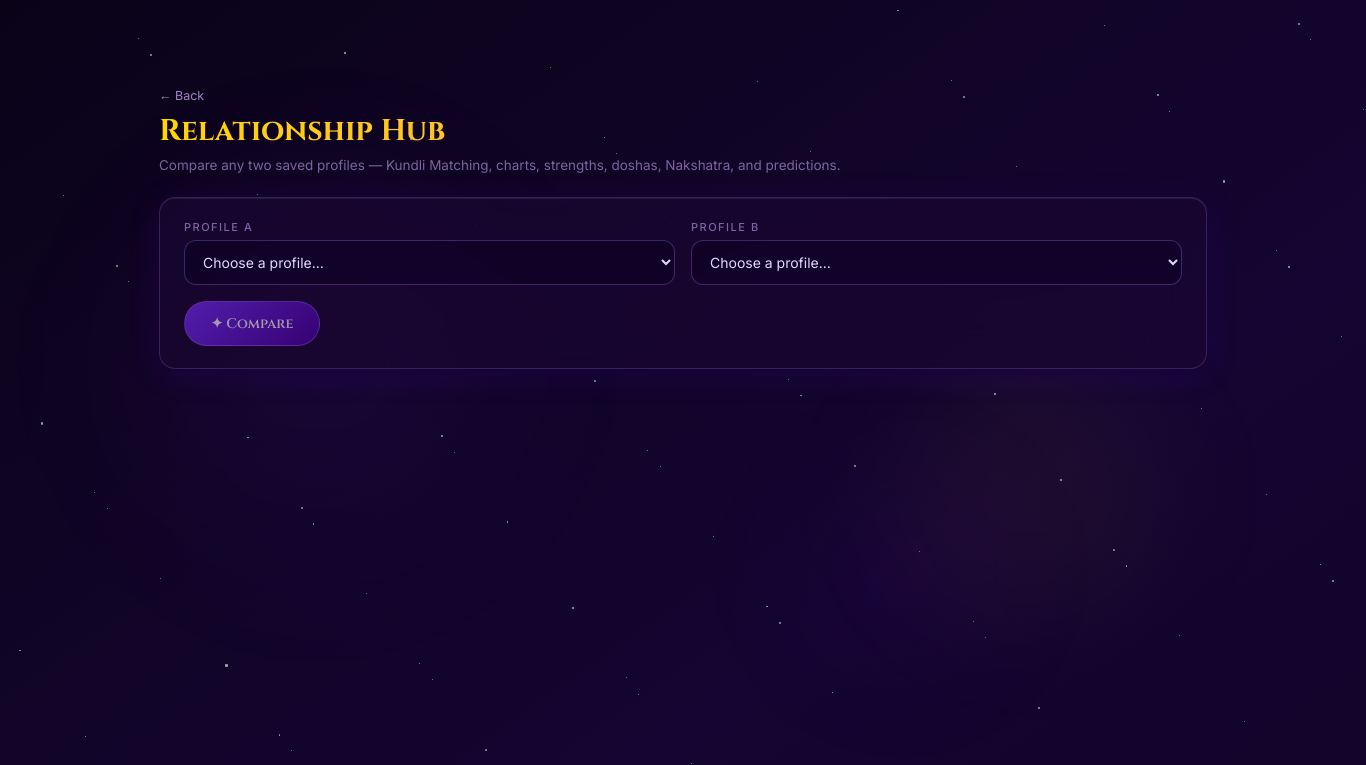
RelationshipHubPage › compares two chosen profiles and shows the Kundli Matching tab
The image size is (1366, 765).
Select "Ramesh Sharma (Father)" in the dropdown named "Profile A" at (430, 262), box [184,240,675,285]
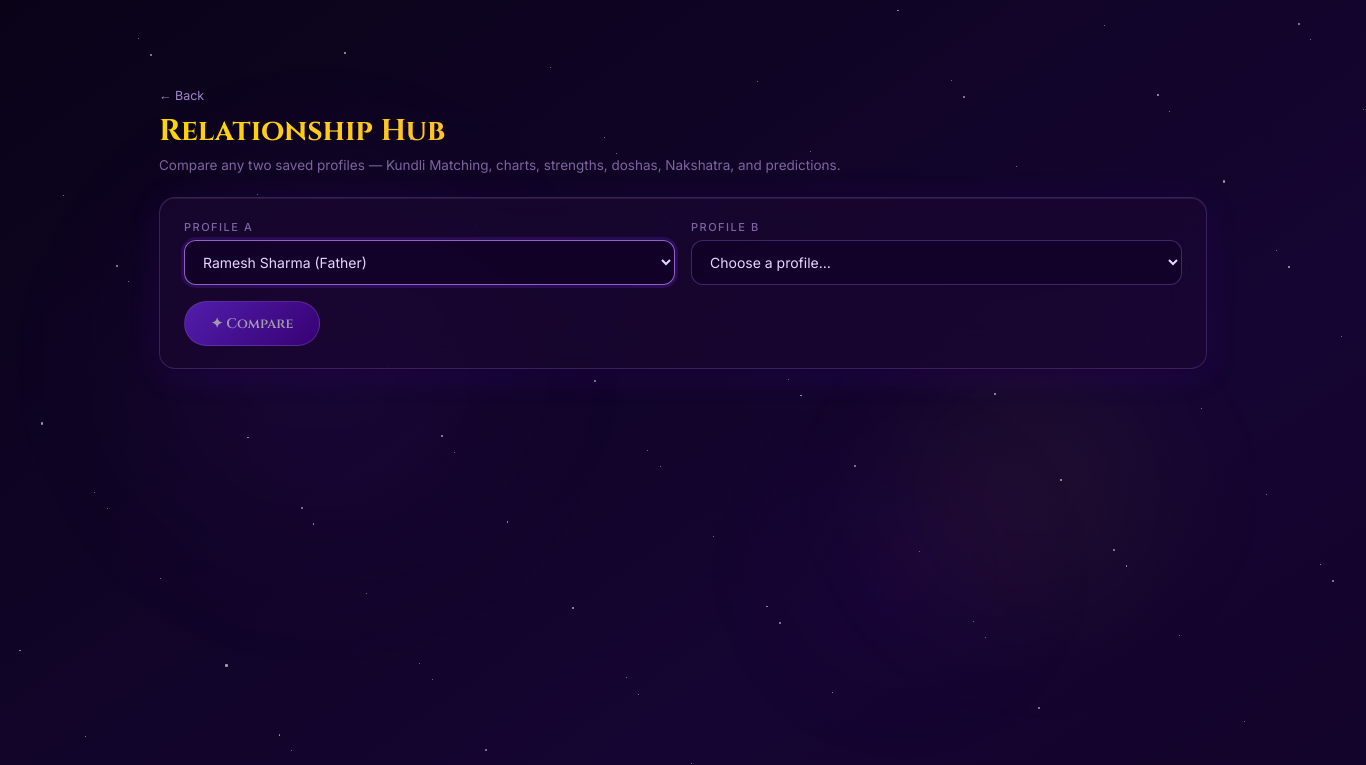
Select "Sunita Sharma (Mother)" in the dropdown named "Profile B" at (936, 262), box [691,240,1182,285]
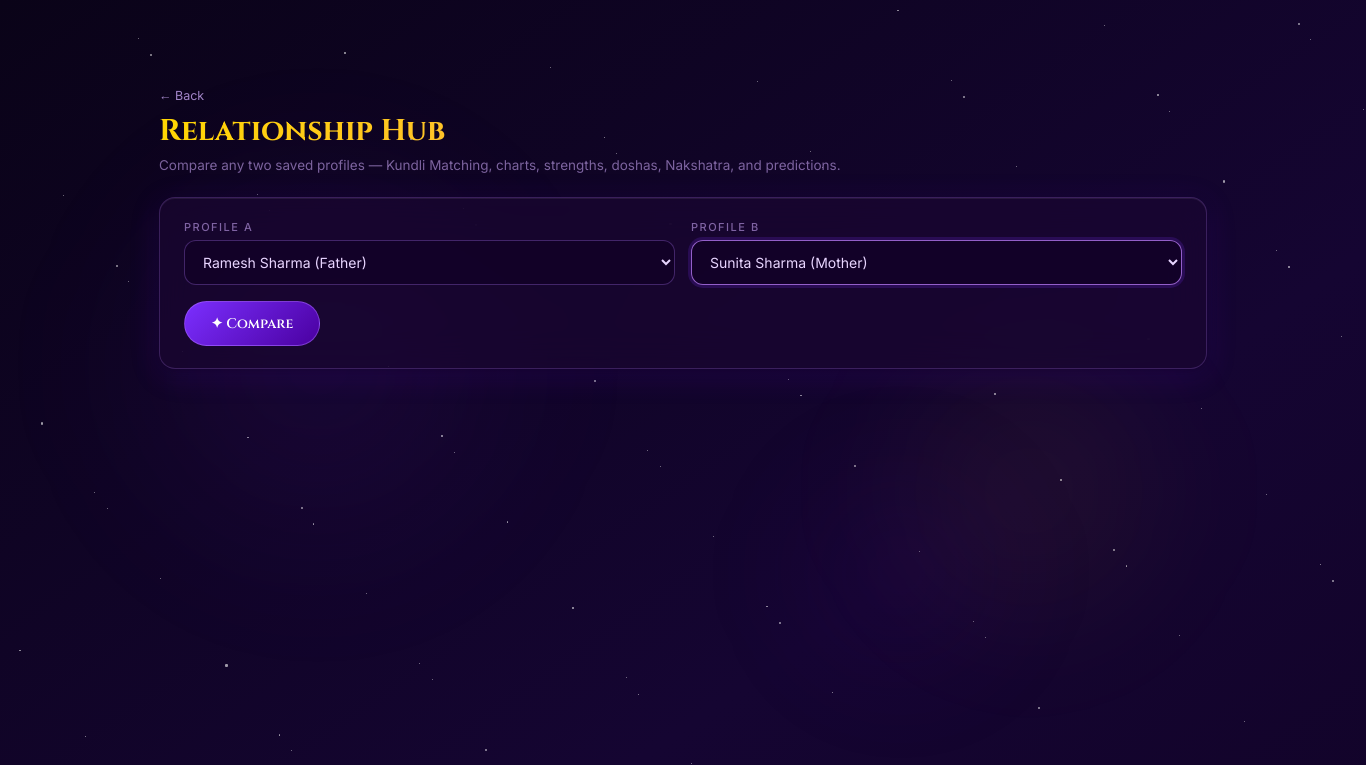
Click the button "✦ Compare" at (252, 324), box [184,301,320,346]
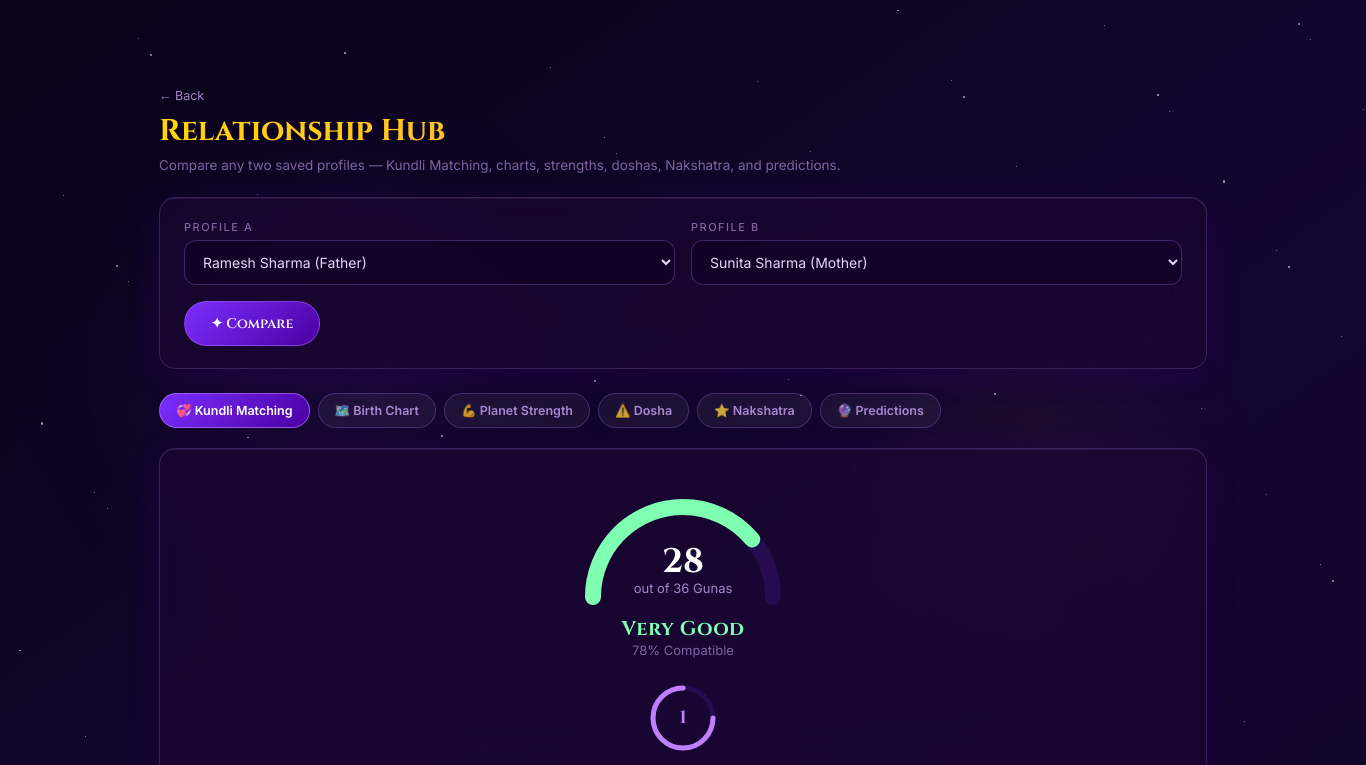
Now the text "Very Good" is shown, box [622,615,745,642]
